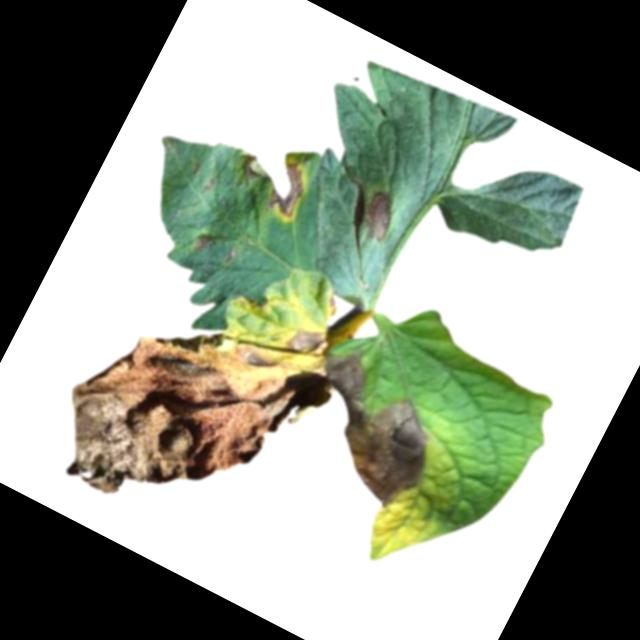Early_blight: (36, 281, 306, 551), (278, 343, 461, 517), (224, 138, 318, 226), (356, 188, 405, 244), (283, 318, 331, 362), (192, 226, 220, 254)
